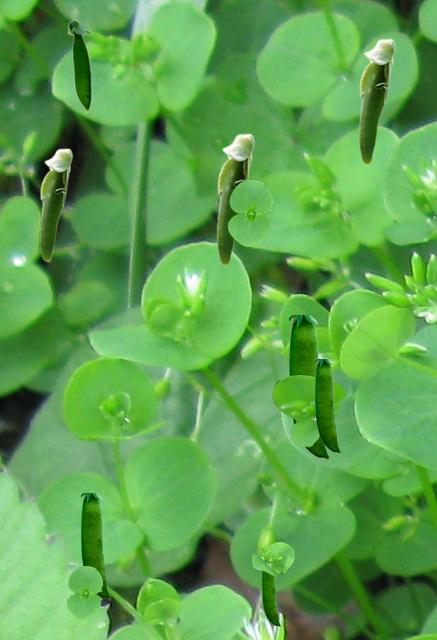pea: (289, 315, 328, 460), (216, 133, 254, 265), (358, 38, 395, 164), (39, 148, 72, 261), (81, 493, 109, 599), (315, 359, 339, 453), (67, 19, 91, 113), (262, 572, 279, 626)
